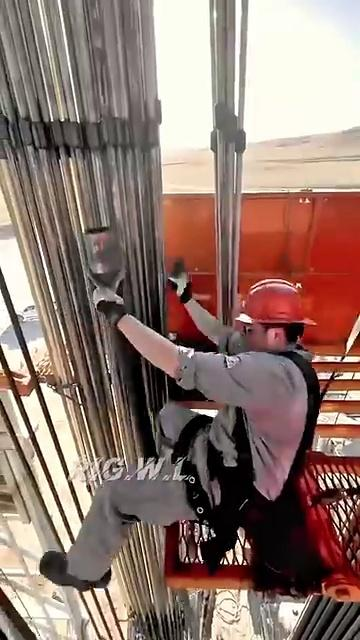gloves: (77, 237, 203, 325)
helmet: (228, 277, 302, 353)
shoes: (42, 525, 113, 592)
worker: (36, 218, 331, 640)
